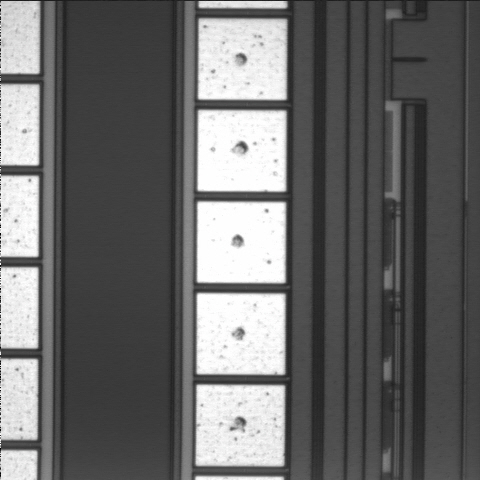pad: (197, 110, 286, 192), (197, 201, 286, 283), (197, 293, 285, 375), (198, 19, 287, 100), (196, 385, 285, 466)
